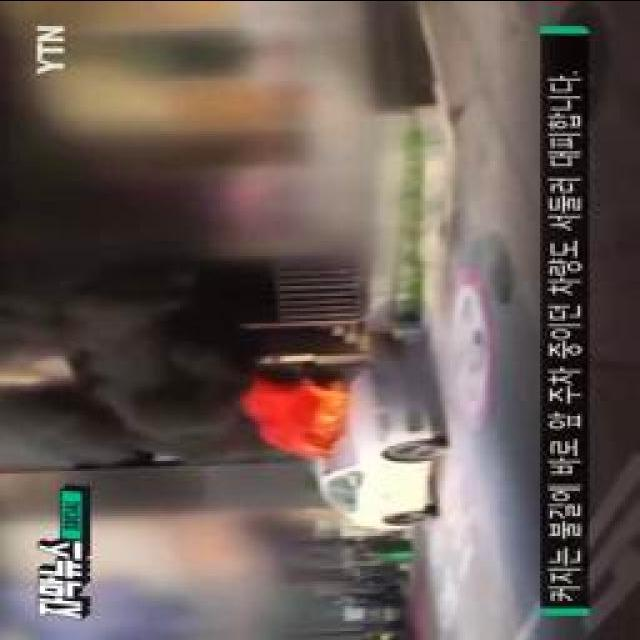Fire: (250, 383, 344, 446)
